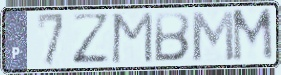7: (35, 11, 66, 69)
B: (152, 11, 192, 64)
M: (230, 6, 276, 65), (189, 9, 237, 63), (109, 10, 155, 66)
Z: (70, 12, 113, 67)
